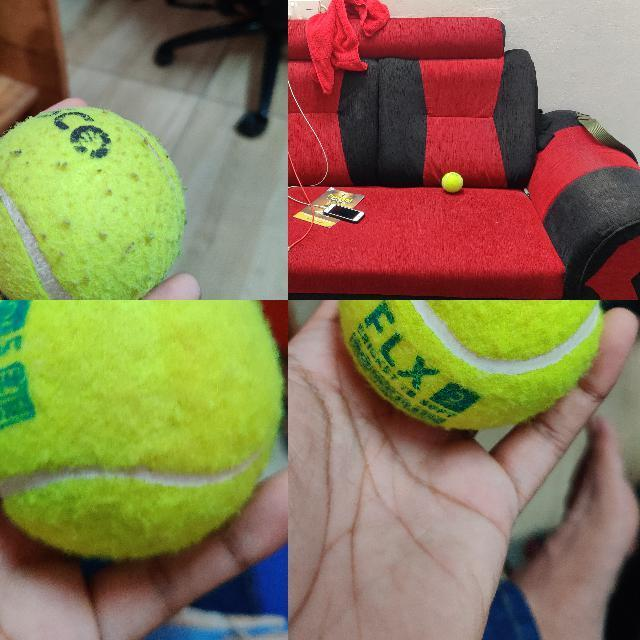tennis-ball: (0, 300, 282, 555), (0, 105, 185, 299), (339, 300, 604, 428), (441, 172, 463, 192)
